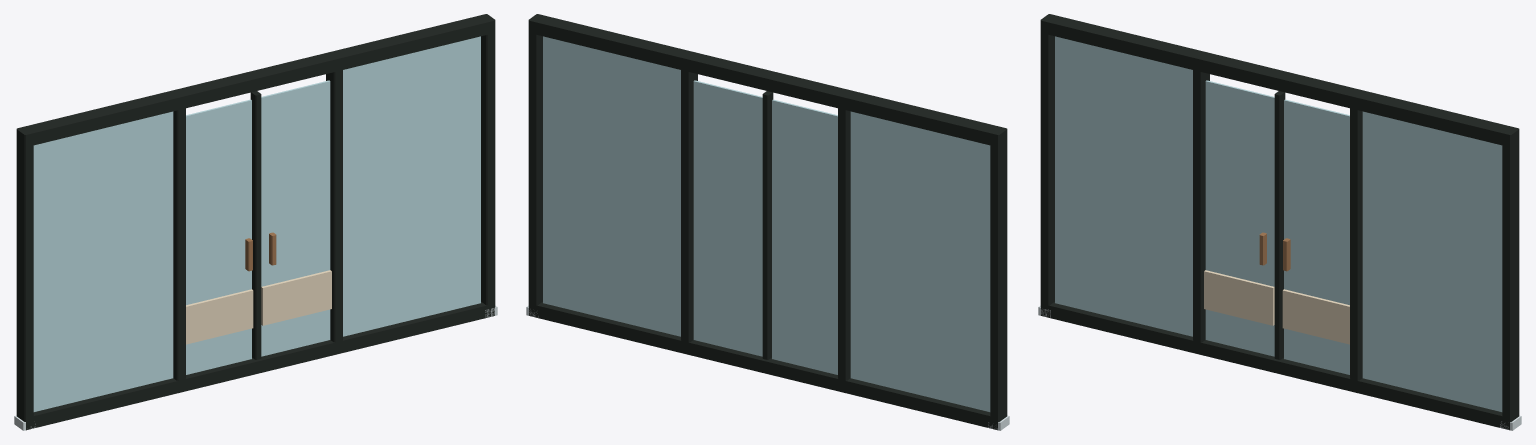
File: gh_glass_partition_v01.glb
3 renders of one model, left to right at view 1: azimuth 30°, elevation 25°; view 2: azimuth 150°, elevation 25°; view 3: azimuth 330°, elevation 25°, orthographic.
Visible parts, largest first — view 1: partition; view 2: partition; view 3: partition.
Part boxes in pixels (x1,y1,x2,y2): partition: [14, 14, 497, 430]; partition: [526, 14, 1009, 430]; partition: [1038, 14, 1521, 430].
Bounding box in the file's own units: 6.04 × 3.6 × 0.25.
2 materials, 1 textured.
